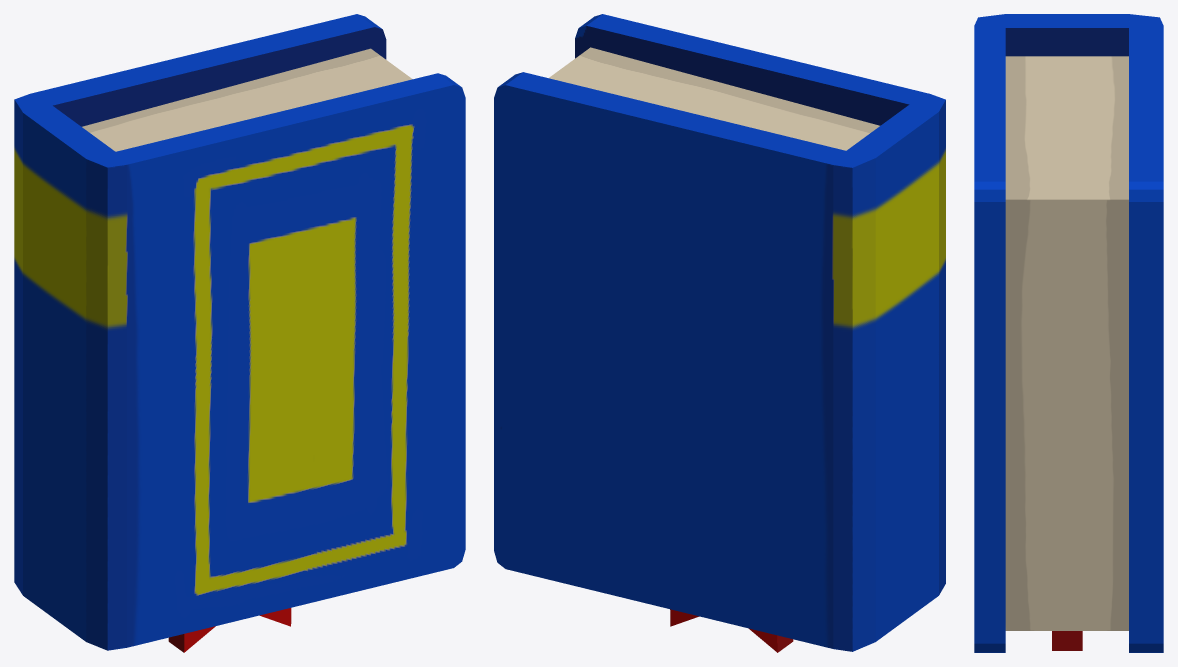
The model's file is Libro.glb.
3 views of the same model, side by side, from view 1: azimuth 30°, elevation 25°; view 2: azimuth 150°, elevation 25°; view 3: azimuth 270°, elevation 25° (orthographic). The views are drawn at different scales.
Visible parts, largest first — view 1: Libro; view 2: Libro; view 3: Libro.
Part boxes in pixels (<box>): Libro: <box>14,14,465,652</box>; Libro: <box>494,14,945,652</box>; Libro: <box>974,14,1163,652</box>.
Size of the model in its own units: 12.36 by 17.6 by 5.71.
1 material, 1 textured.
